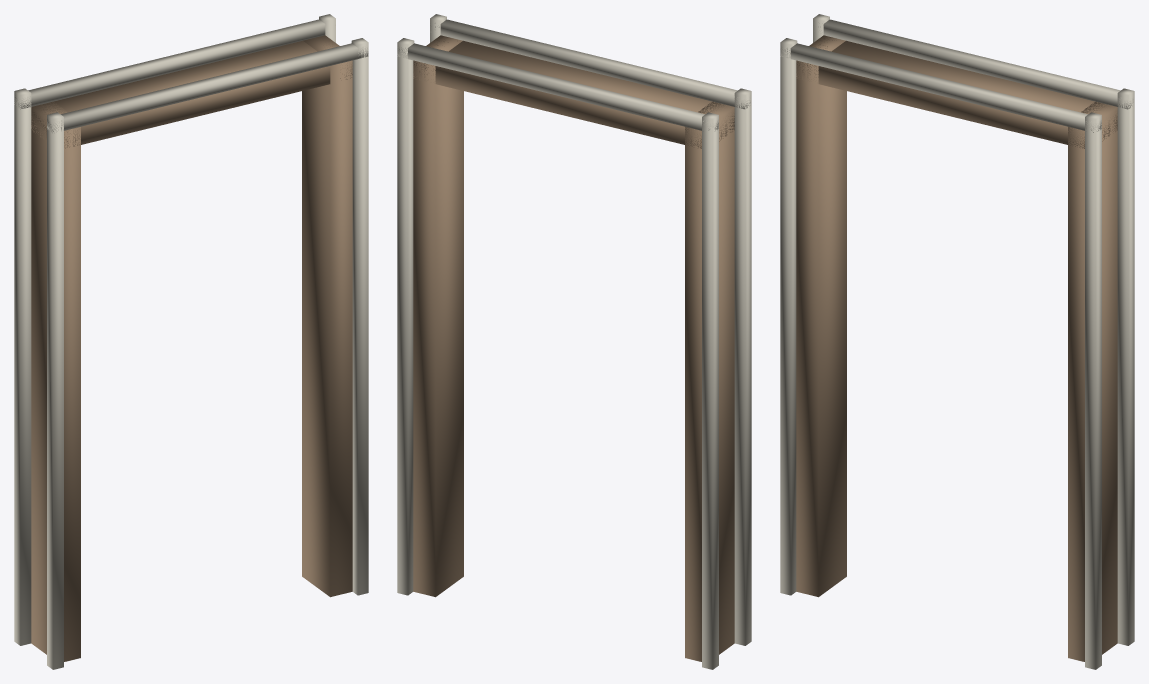
The model's file is doorway_painted_trim_w122_h240_d24.glb.
The picture shows the model from 3 angles, left to right: view 1: azimuth 30°, elevation 25°; view 2: azimuth 150°, elevation 25°; view 3: azimuth 330°, elevation 25°; orthographic projection.
Visible parts, largest first — view 1: world; view 2: world; view 3: world.
Part boxes in pixels (x1,y1,x2,y2): world: (14,14,368,669); world: (397,14,751,669); world: (780,14,1134,669).
Bounding box in the file's own units: 1.55 × 2.58 × 0.3296.
